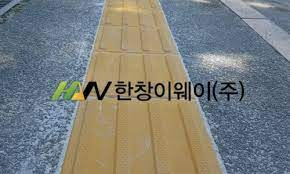guide_blocks: (69, 1, 219, 173)
